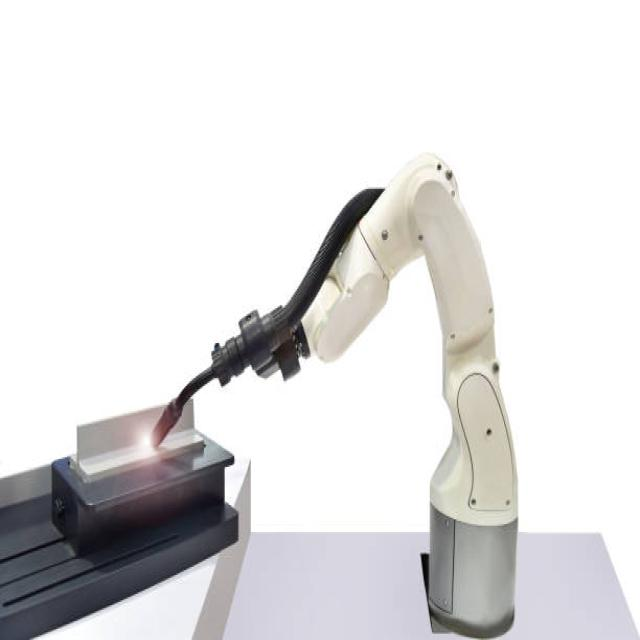Robotic-arm: (212, 154, 521, 640)
